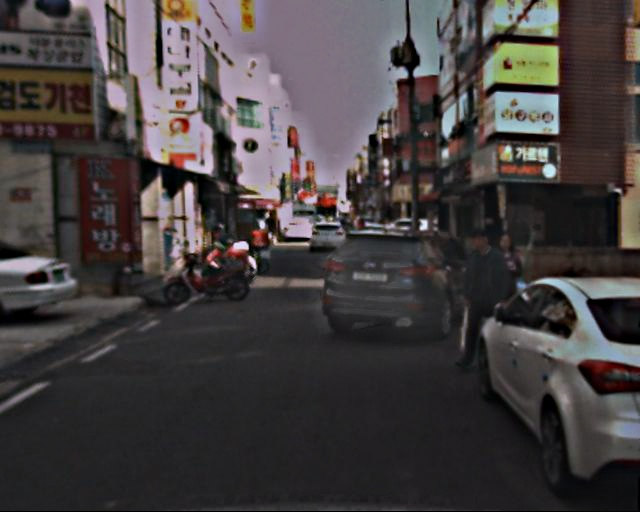person: (450, 228, 511, 369), (482, 234, 531, 340), (262, 212, 277, 249)
